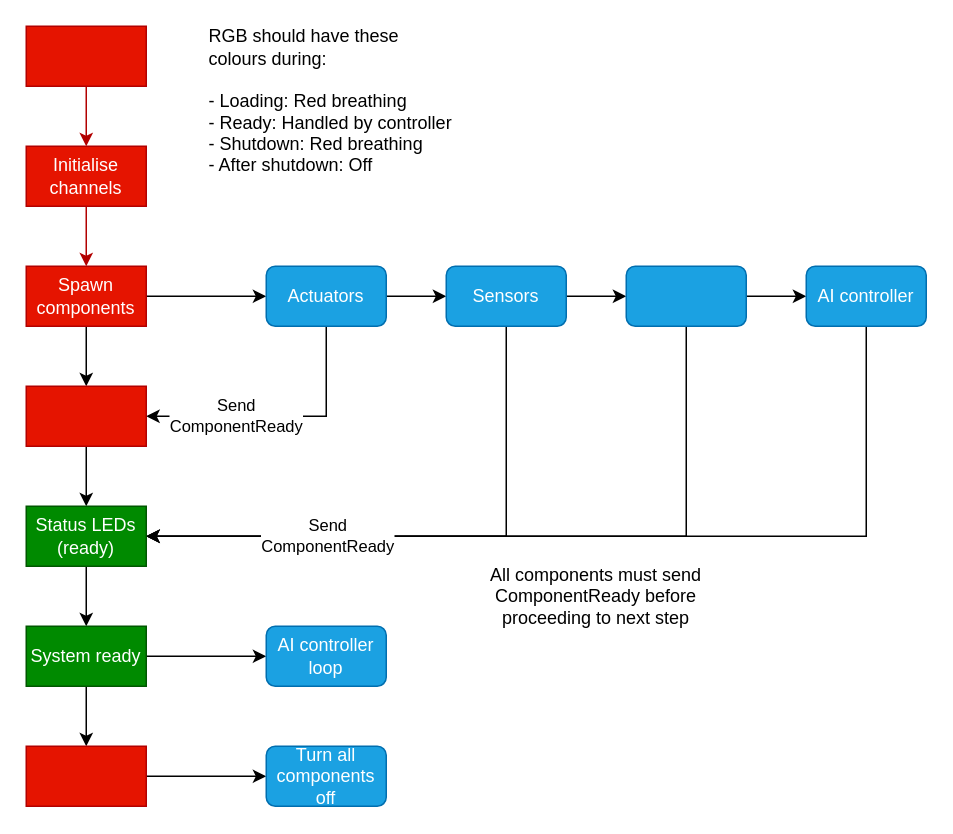
Some shapes in this 953 by 834 pixel diagram are drawn without their labels. Here are the shapes that lost their labels. From the top down, the centre of each, then its label:
pixel 85 55: Runner initialised
pixel 685 295: Command distributor
pixel 85 415: Status LEDs (loading)
pixel 85 775: System shutdown
